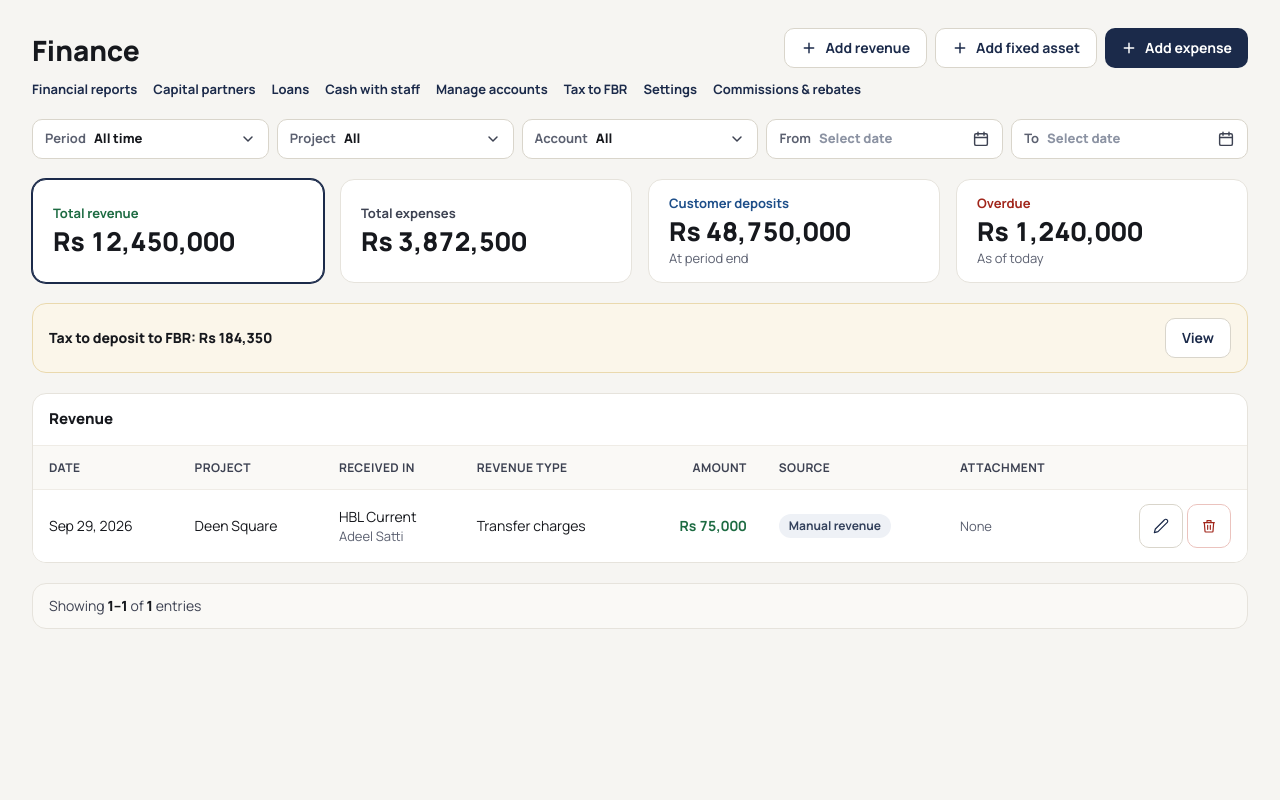
Test: Finance home › hides customer deposits and overdue when an account is chosen
This screenshot has width=1280, height=800.
Check: the button "Customer deposits Rs 48,750,000 At period end" is shown, box left=648, top=179, right=940, bottom=283
Click the dropdown labelled "Account All" at (640, 139), box left=522, top=119, right=758, bottom=159
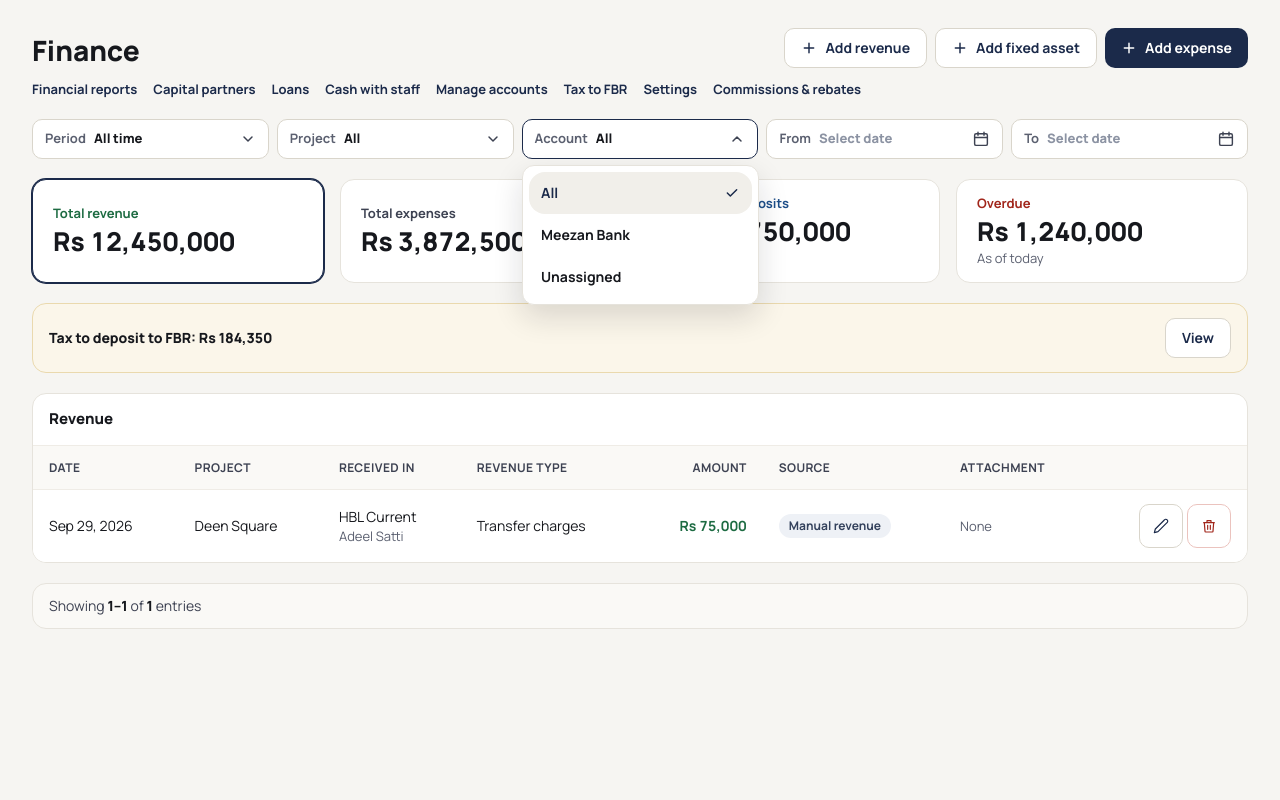
Click the option "Meezan Bank" at (585, 234), box left=541, top=225, right=629, bottom=244
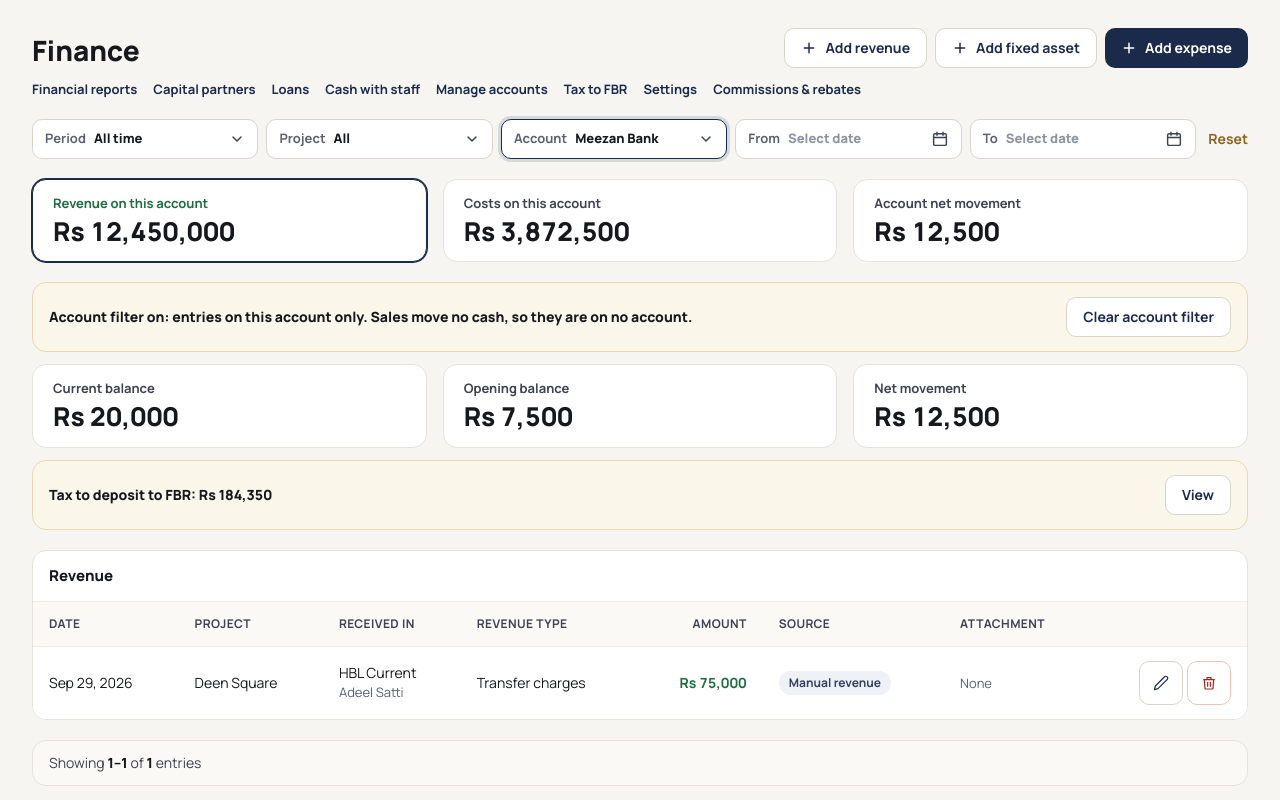
Check: the button "Revenue on this account Rs 12,450,000" is shown, box left=32, top=179, right=427, bottom=262
Check: the text "Account net movement" is shown, box left=874, top=194, right=1021, bottom=212
Check: the button "Customer deposits" is gone
